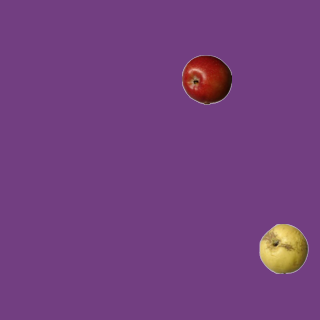Apple Braeburn: (181, 54, 231, 104)
Apple Golden 1: (258, 223, 308, 273)
